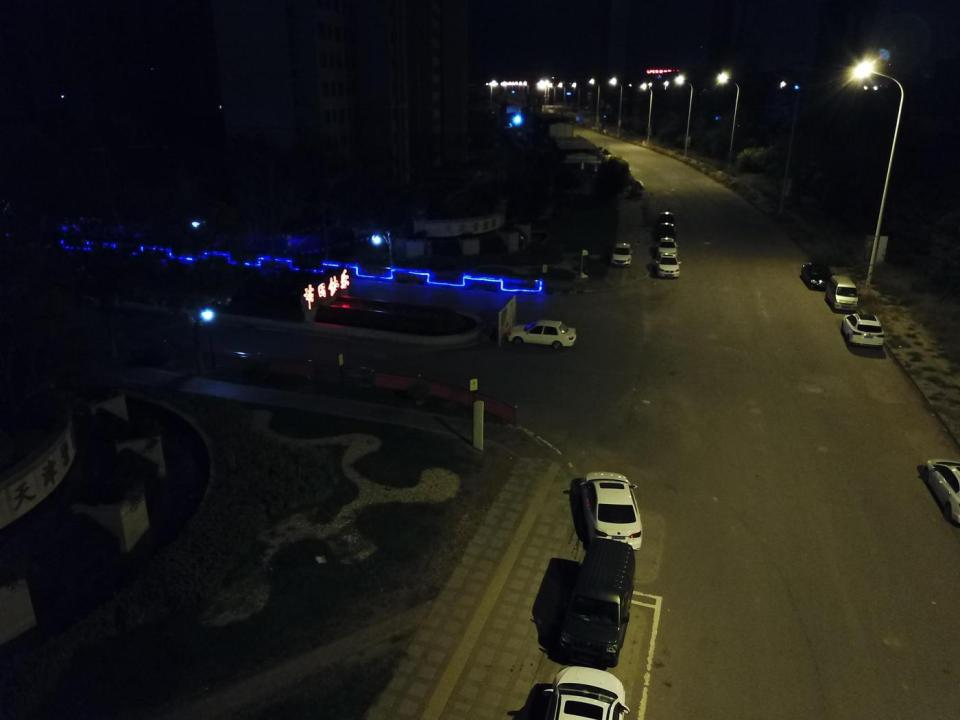car: (580, 470, 643, 552), (923, 457, 960, 525), (506, 320, 576, 349), (840, 313, 885, 347), (800, 262, 836, 289), (656, 253, 682, 277), (611, 242, 633, 267), (657, 237, 678, 257), (658, 222, 676, 240), (660, 211, 674, 226)
van: (560, 536, 636, 669), (824, 275, 859, 312)
